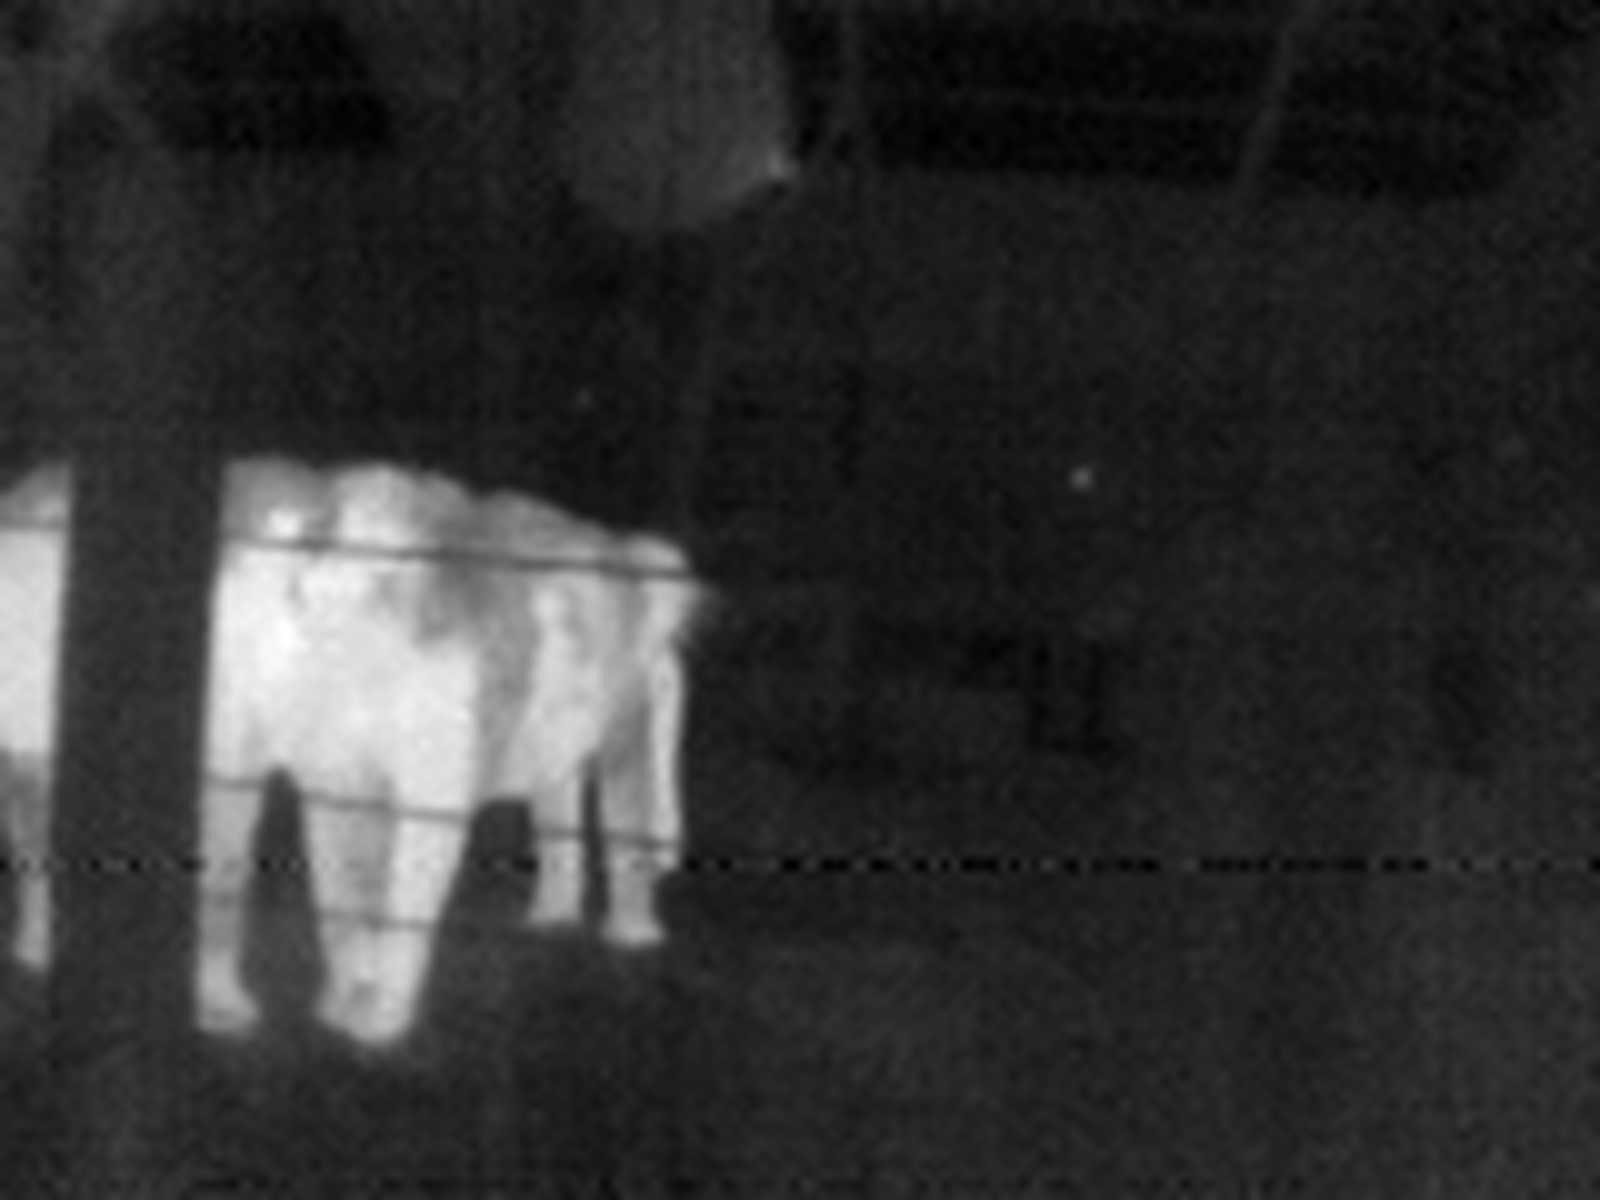elephant: (8, 420, 682, 1063)
